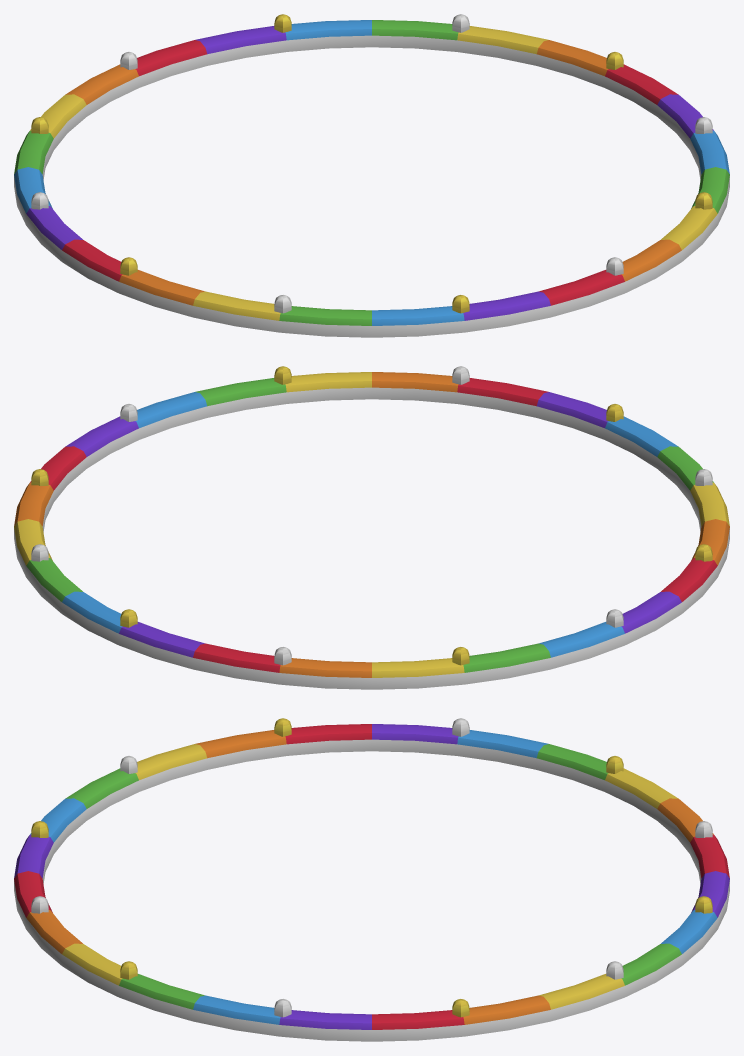
The model's file is safezone_floor_ring.glb.
3 views of the same model, one above another, from view 1: azimuth 30°, elevation 25°; view 2: azimuth 150°, elevation 25°; view 3: azimuth 270°, elevation 25° (orthographic).
Parts seen in each view (by area): view 1: safezone_floor_ring; view 2: safezone_floor_ring; view 3: safezone_floor_ring.
Boxes of the visible parts, <box> form: safezone_floor_ring: <box>14,14,729,337</box>; safezone_floor_ring: <box>14,366,729,689</box>; safezone_floor_ring: <box>14,718,729,1041</box>.
Bounding box in the file's own units: 10 × 0.47 × 10.
